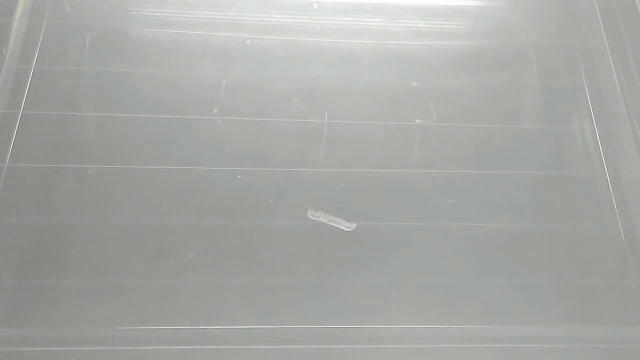alpha: (303, 204, 361, 238)
